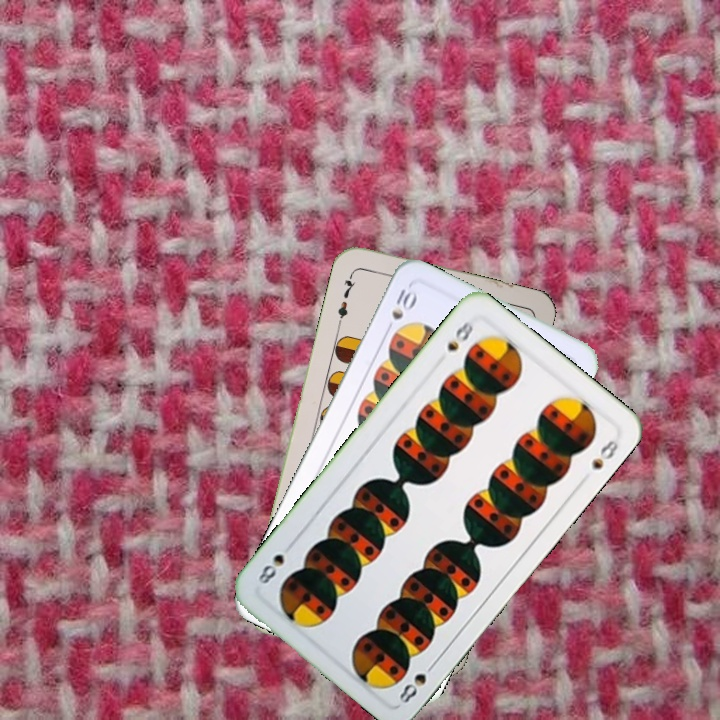E7: (333, 268, 358, 327)
S10: (381, 282, 419, 337)
S8: (395, 657, 439, 706), (442, 317, 476, 354)
